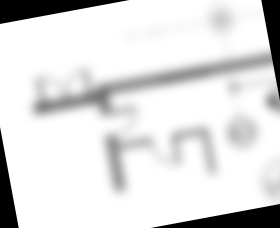door: (99, 106, 141, 140), (148, 133, 185, 170)
double door: (33, 66, 96, 114)
wall: (96, 53, 273, 95), (30, 91, 108, 116), (106, 136, 126, 193), (202, 128, 216, 175), (116, 137, 152, 151), (174, 126, 206, 139)
window: (154, 62, 213, 91)
